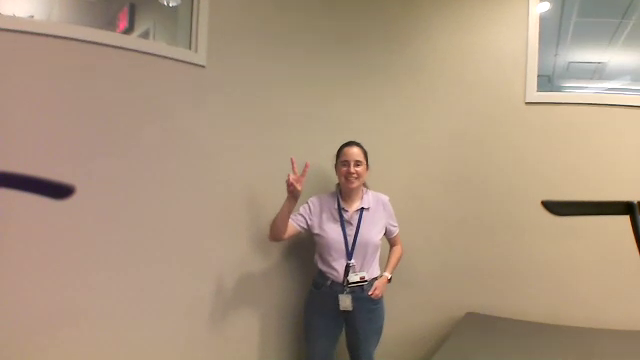peace: (274, 149, 321, 205)
